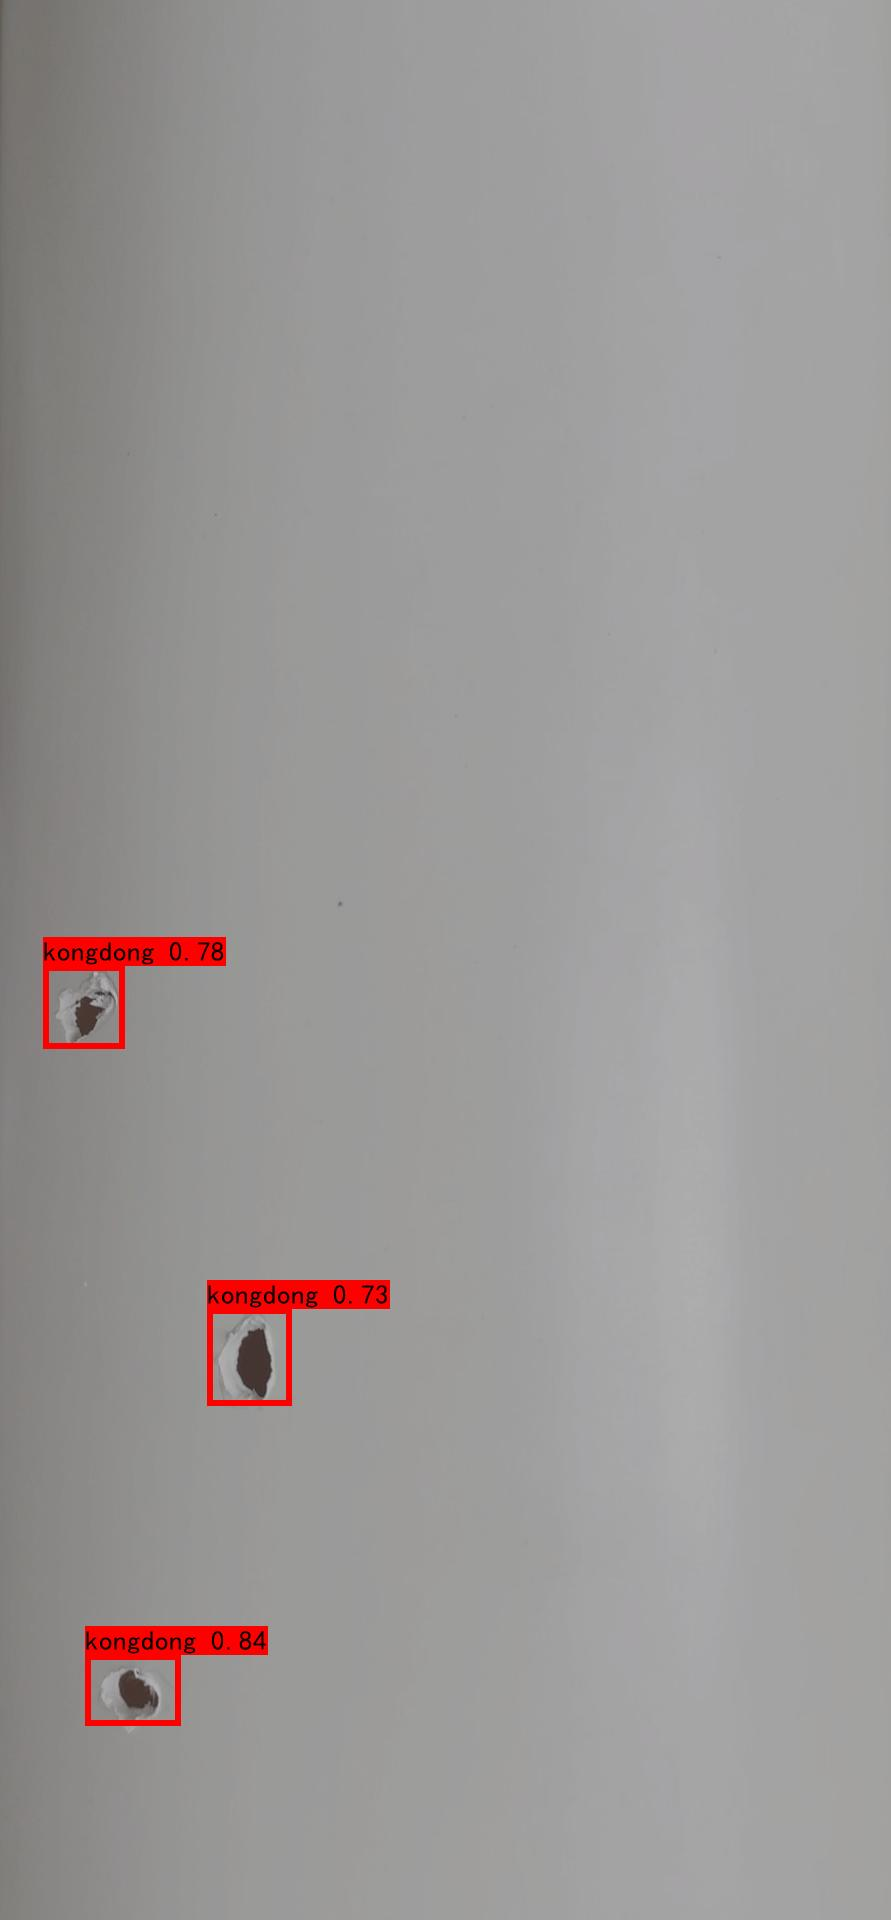kongdong: (49, 945, 127, 1056), (204, 1308, 293, 1406), (83, 1651, 177, 1736)
